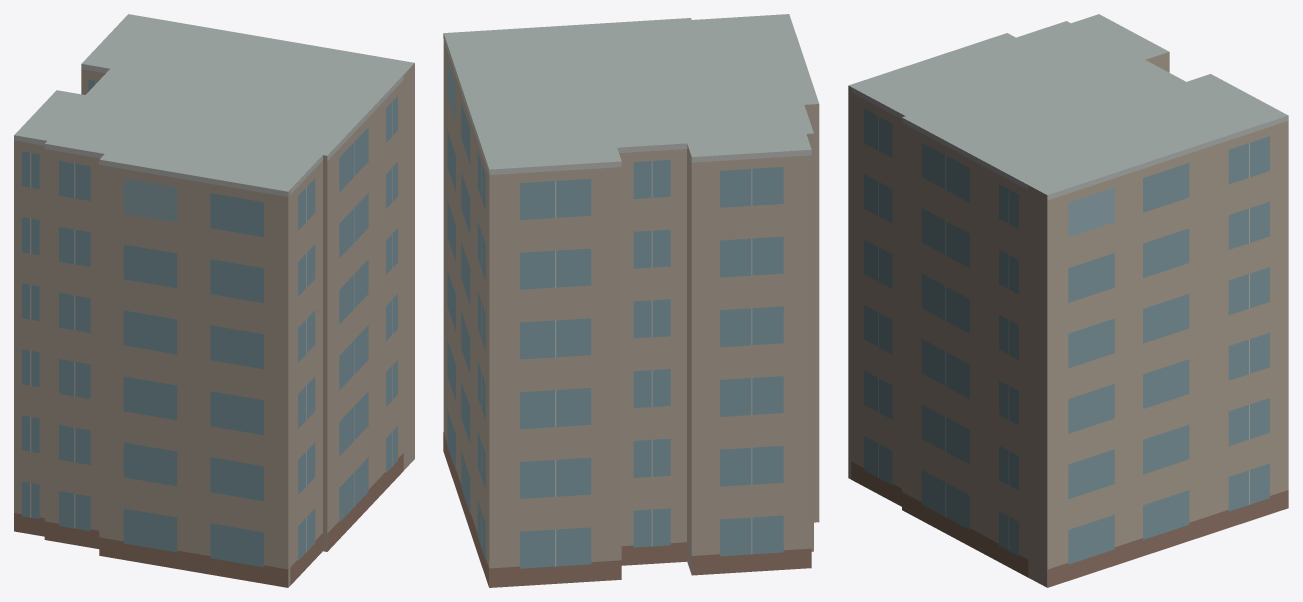
The model's file is survey-upis-32935660.glb.
The picture shows the model from 3 angles, left to right: view 1: azimuth 30°, elevation 25°; view 2: azimuth 150°, elevation 25°; view 3: azimuth 270°, elevation 25°; orthographic projection. The views are drawn at different scales.
Visible parts, largest first — view 1: survey-upis-32935660.tmp; view 2: survey-upis-32935660.tmp; view 3: survey-upis-32935660.tmp.
Part boxes in pixels (left/top/right/bottom): survey-upis-32935660.tmp: left=14, top=14, right=414, bottom=587; survey-upis-32935660.tmp: left=443, top=14, right=819, bottom=587; survey-upis-32935660.tmp: left=848, top=14, right=1288, bottom=587.
Bounding box in the file's own units: 18.12 × 18.3 × 18.6.
